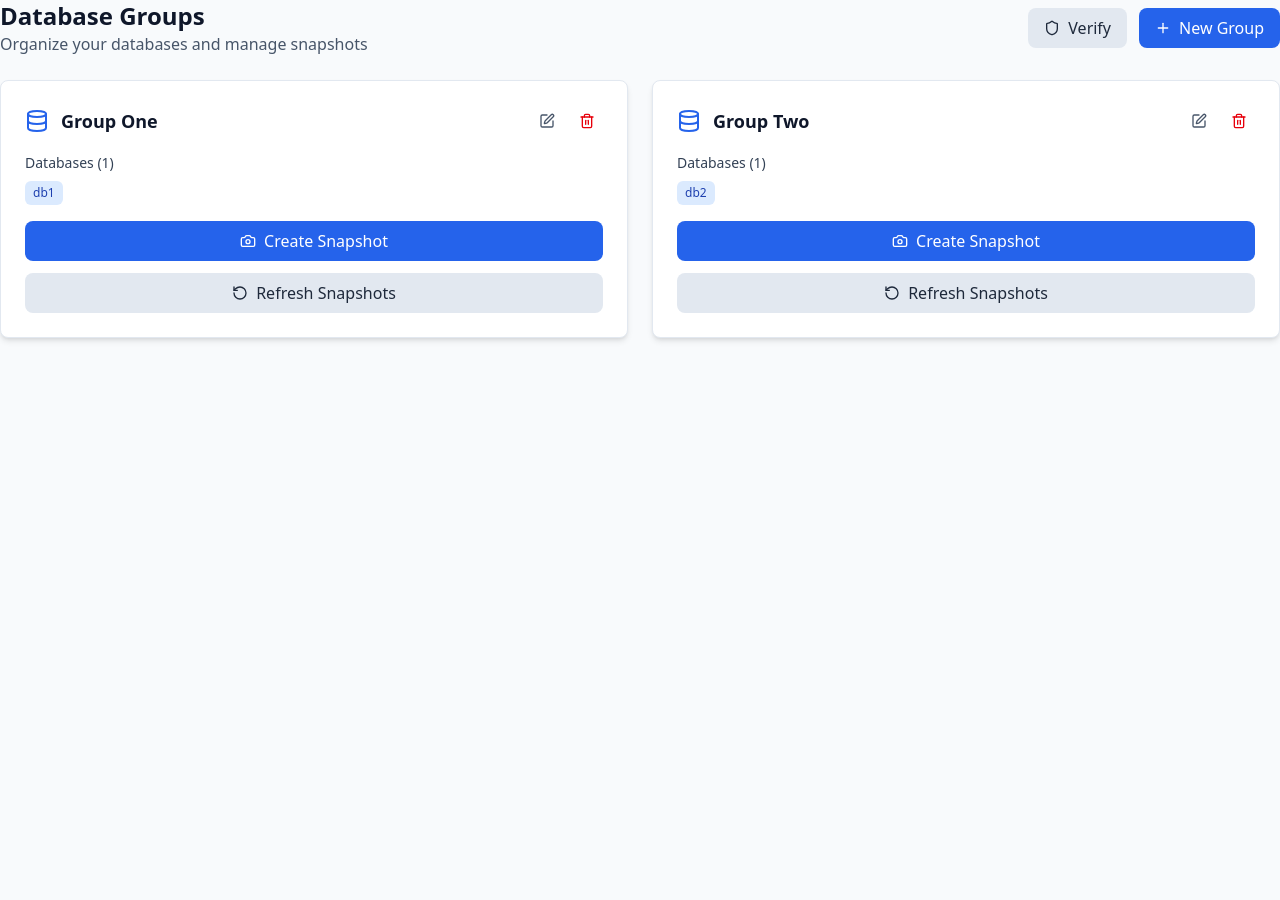
Test: GroupsManager - Verify › does not report the same orphaned snapshot more than once
The image size is (1280, 900).
expect the heading "Group One" is shown: met, box left=61, top=107, right=158, bottom=135
What coordinates should you click on to do the following:
click the button with aria-label "Verify snapshot consistency"
I would click on:
 (1078, 28)
Its box is left=1028, top=8, right=1127, bottom=48.
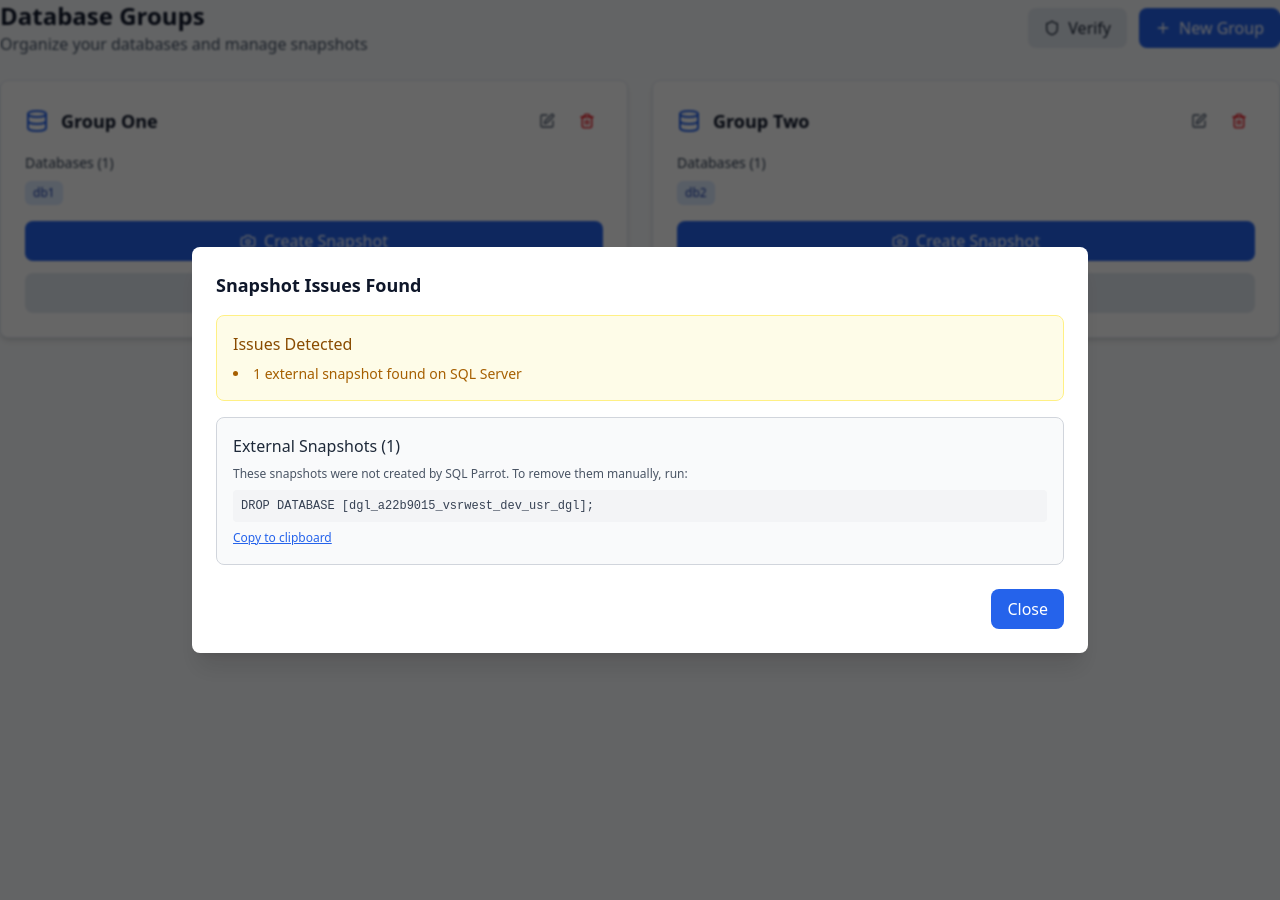
expect the heading "External Snapshots (1)" is shown: met, box left=233, top=435, right=400, bottom=457
expect the text "DROP DATABASE [dgl_a22b9015_vsrwest_dev_usr_dgl];" is shown once: met, box left=241, top=499, right=594, bottom=513
